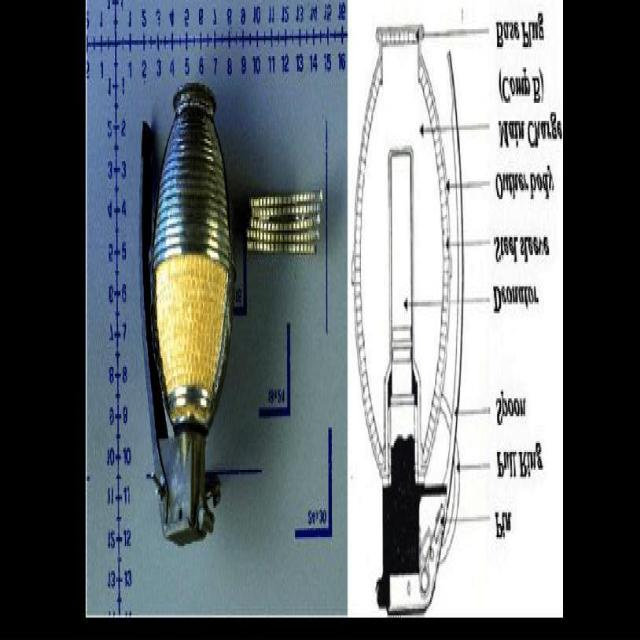grenade: (141, 82, 237, 549)
